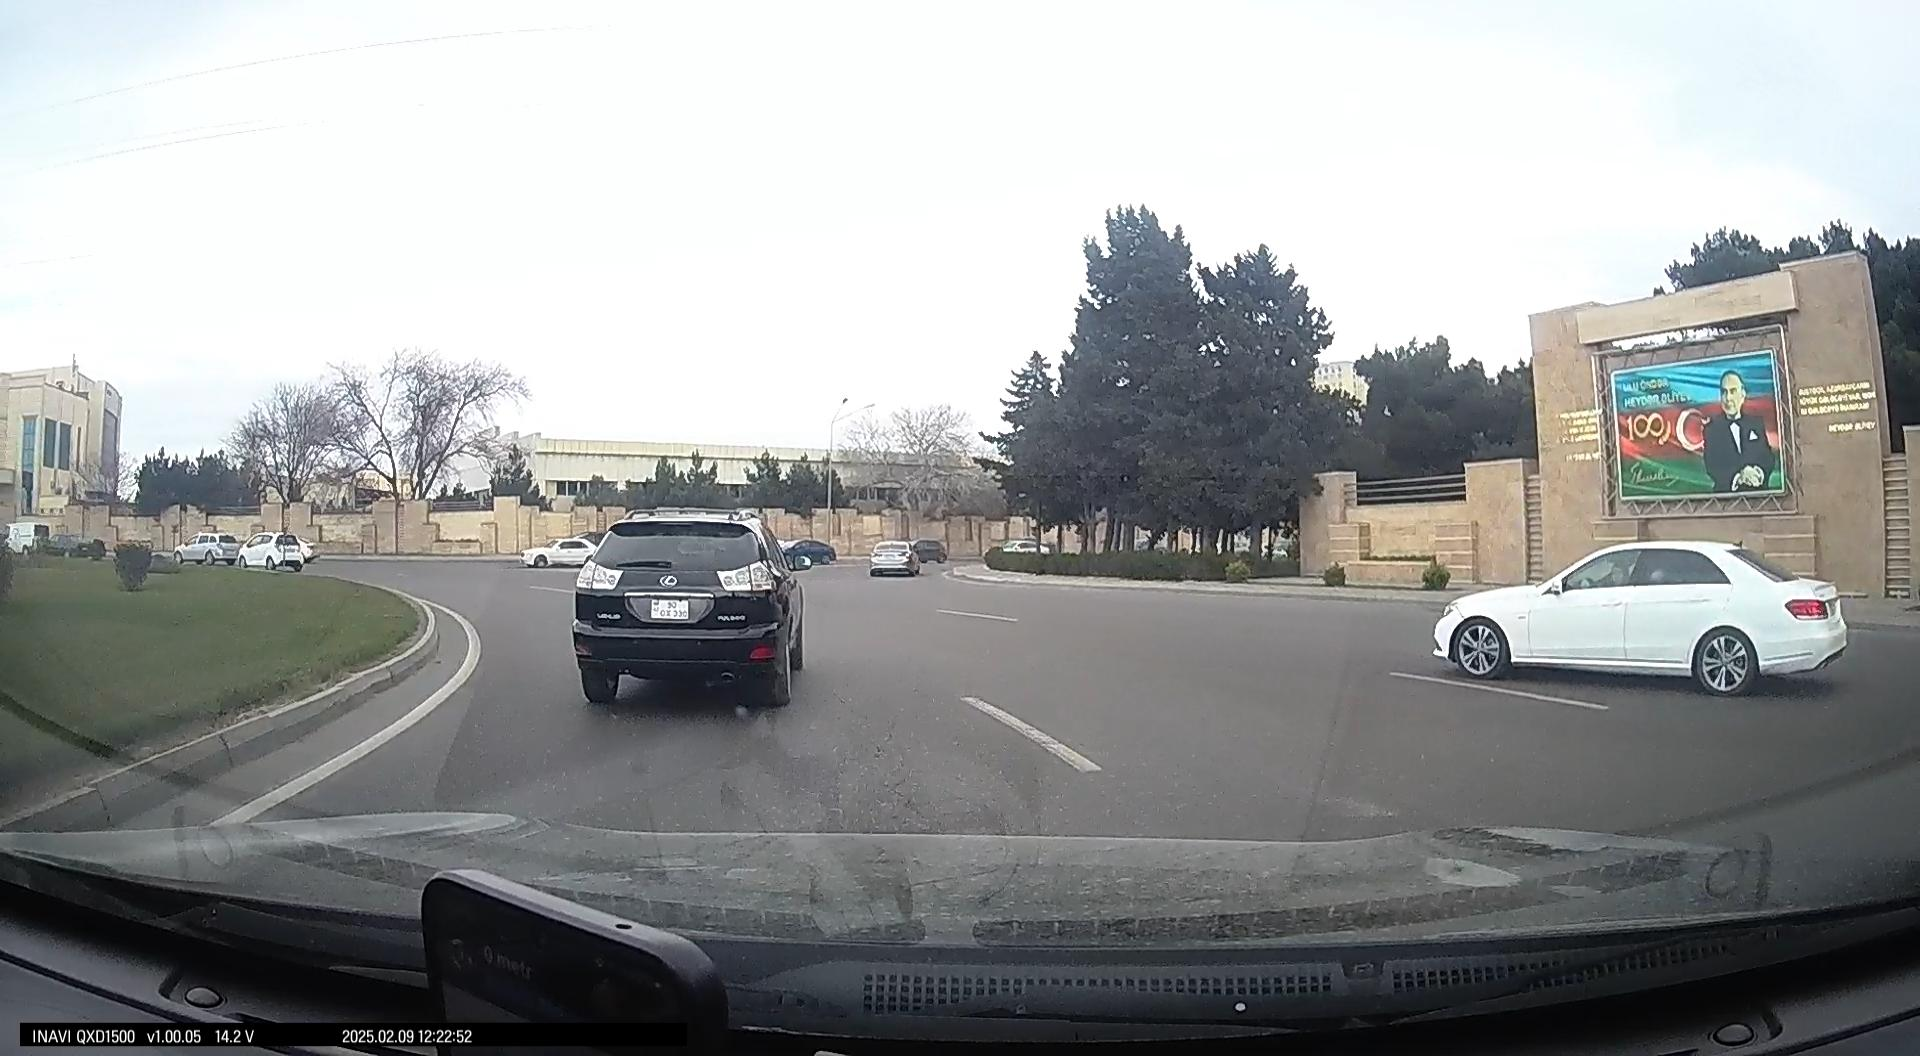banner: (1611, 352, 1790, 503)
